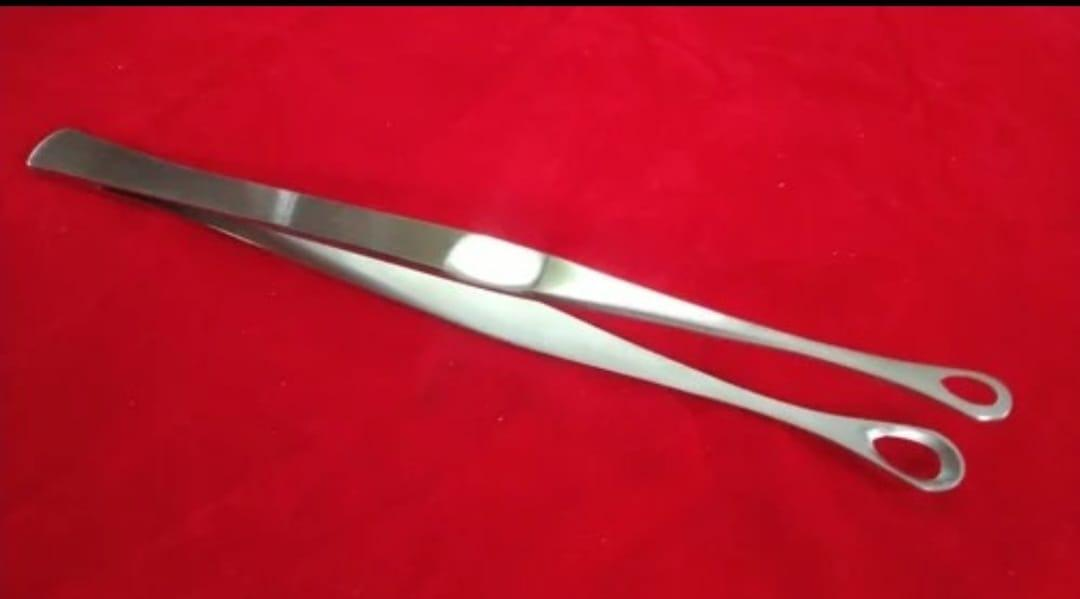Eye Intestinal Forceps: (10, 103, 1026, 508)
